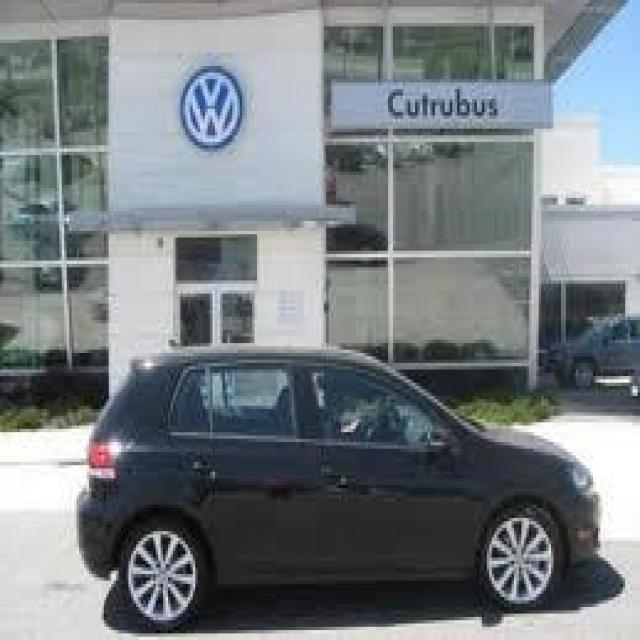car: (75, 342, 602, 629)
